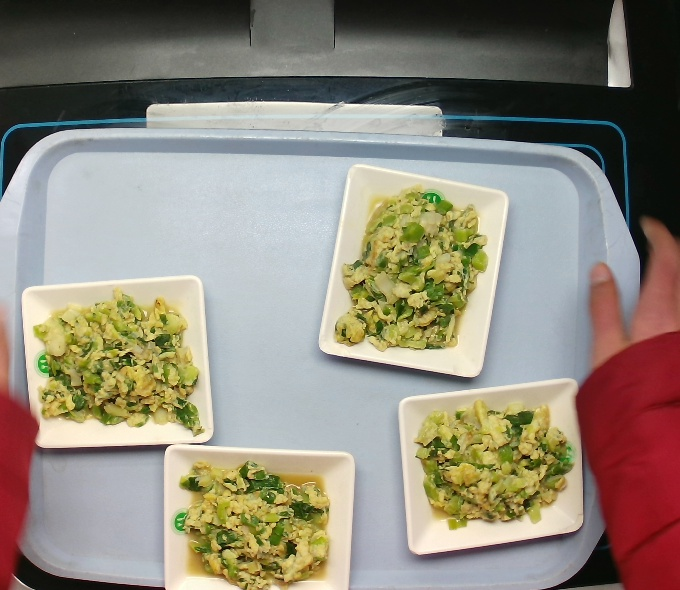wcq-SuanMiaoChaoDan: (14, 272, 222, 445), (312, 177, 498, 360), (404, 388, 584, 554), (159, 444, 347, 590)
